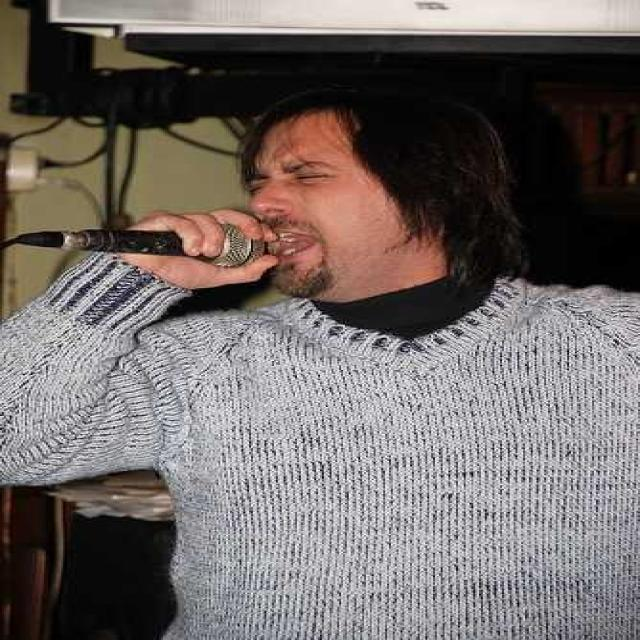microphone: (8, 219, 271, 270)
